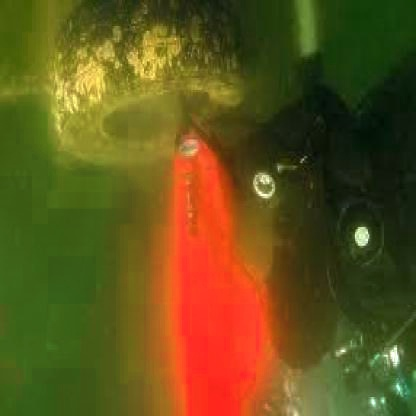tire: (44, 3, 256, 166)
